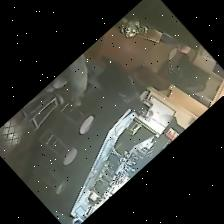person: (86, 55, 143, 110), (44, 54, 87, 105), (160, 32, 190, 52)
